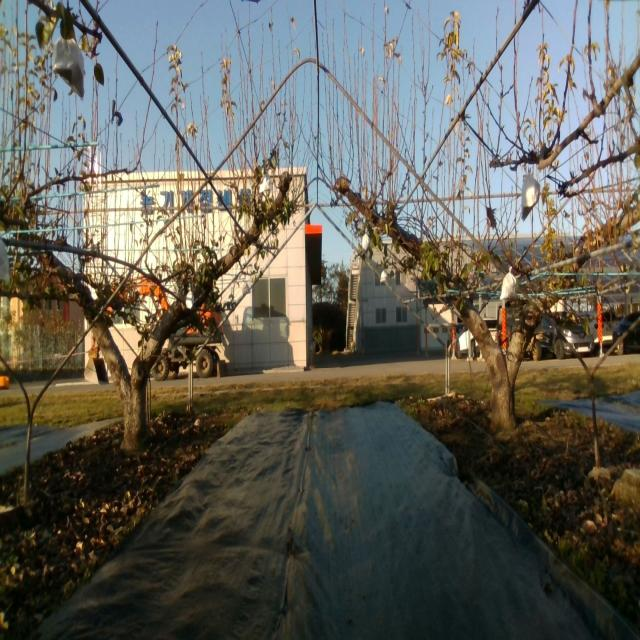pearbags: (51, 36, 84, 97), (522, 170, 541, 222), (500, 265, 518, 301), (258, 170, 273, 194)
